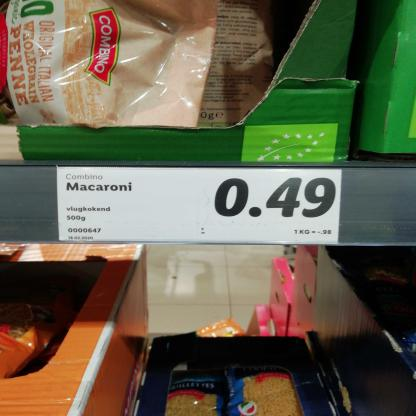prtg: (58, 167, 343, 245)
